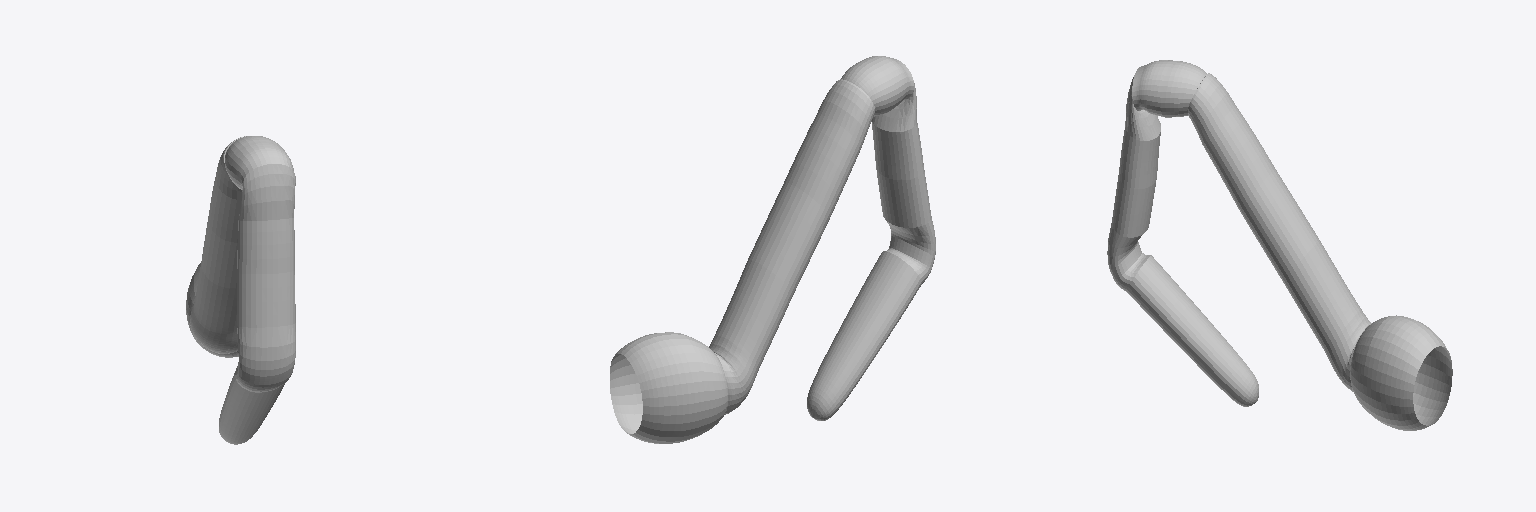
Rendered from black_widow_right_pincer.obj.
3 renders of one model, left to right at view 1: azimuth 30°, elevation 25°; view 2: azimuth 150°, elevation 25°; view 3: azimuth 270°, elevation 25°, orthographic.
Parts seen in each view (by area): view 1: Circle.011_Circle.047; view 2: Circle.011_Circle.047; view 3: Circle.011_Circle.047.
Boxes of the visible parts, box(x1,y1,x2,y2) form: Circle.011_Circle.047: box(186, 136, 295, 444); Circle.011_Circle.047: box(610, 56, 935, 443); Circle.011_Circle.047: box(1107, 60, 1452, 430).
Size of the model in its own units: 0.3056 by 0.5308 by 0.4972.